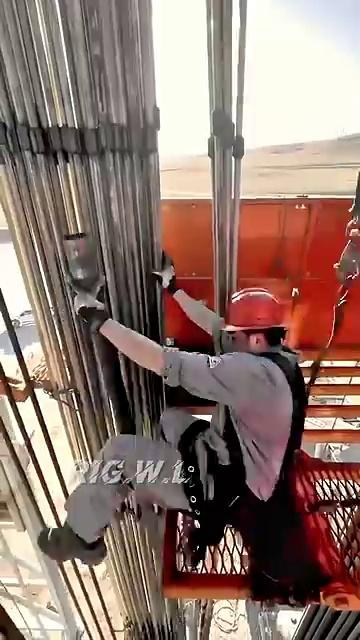gloves: (52, 260, 175, 345)
helmet: (220, 278, 315, 343)
shoes: (33, 520, 140, 575)
worker: (28, 248, 343, 617)
